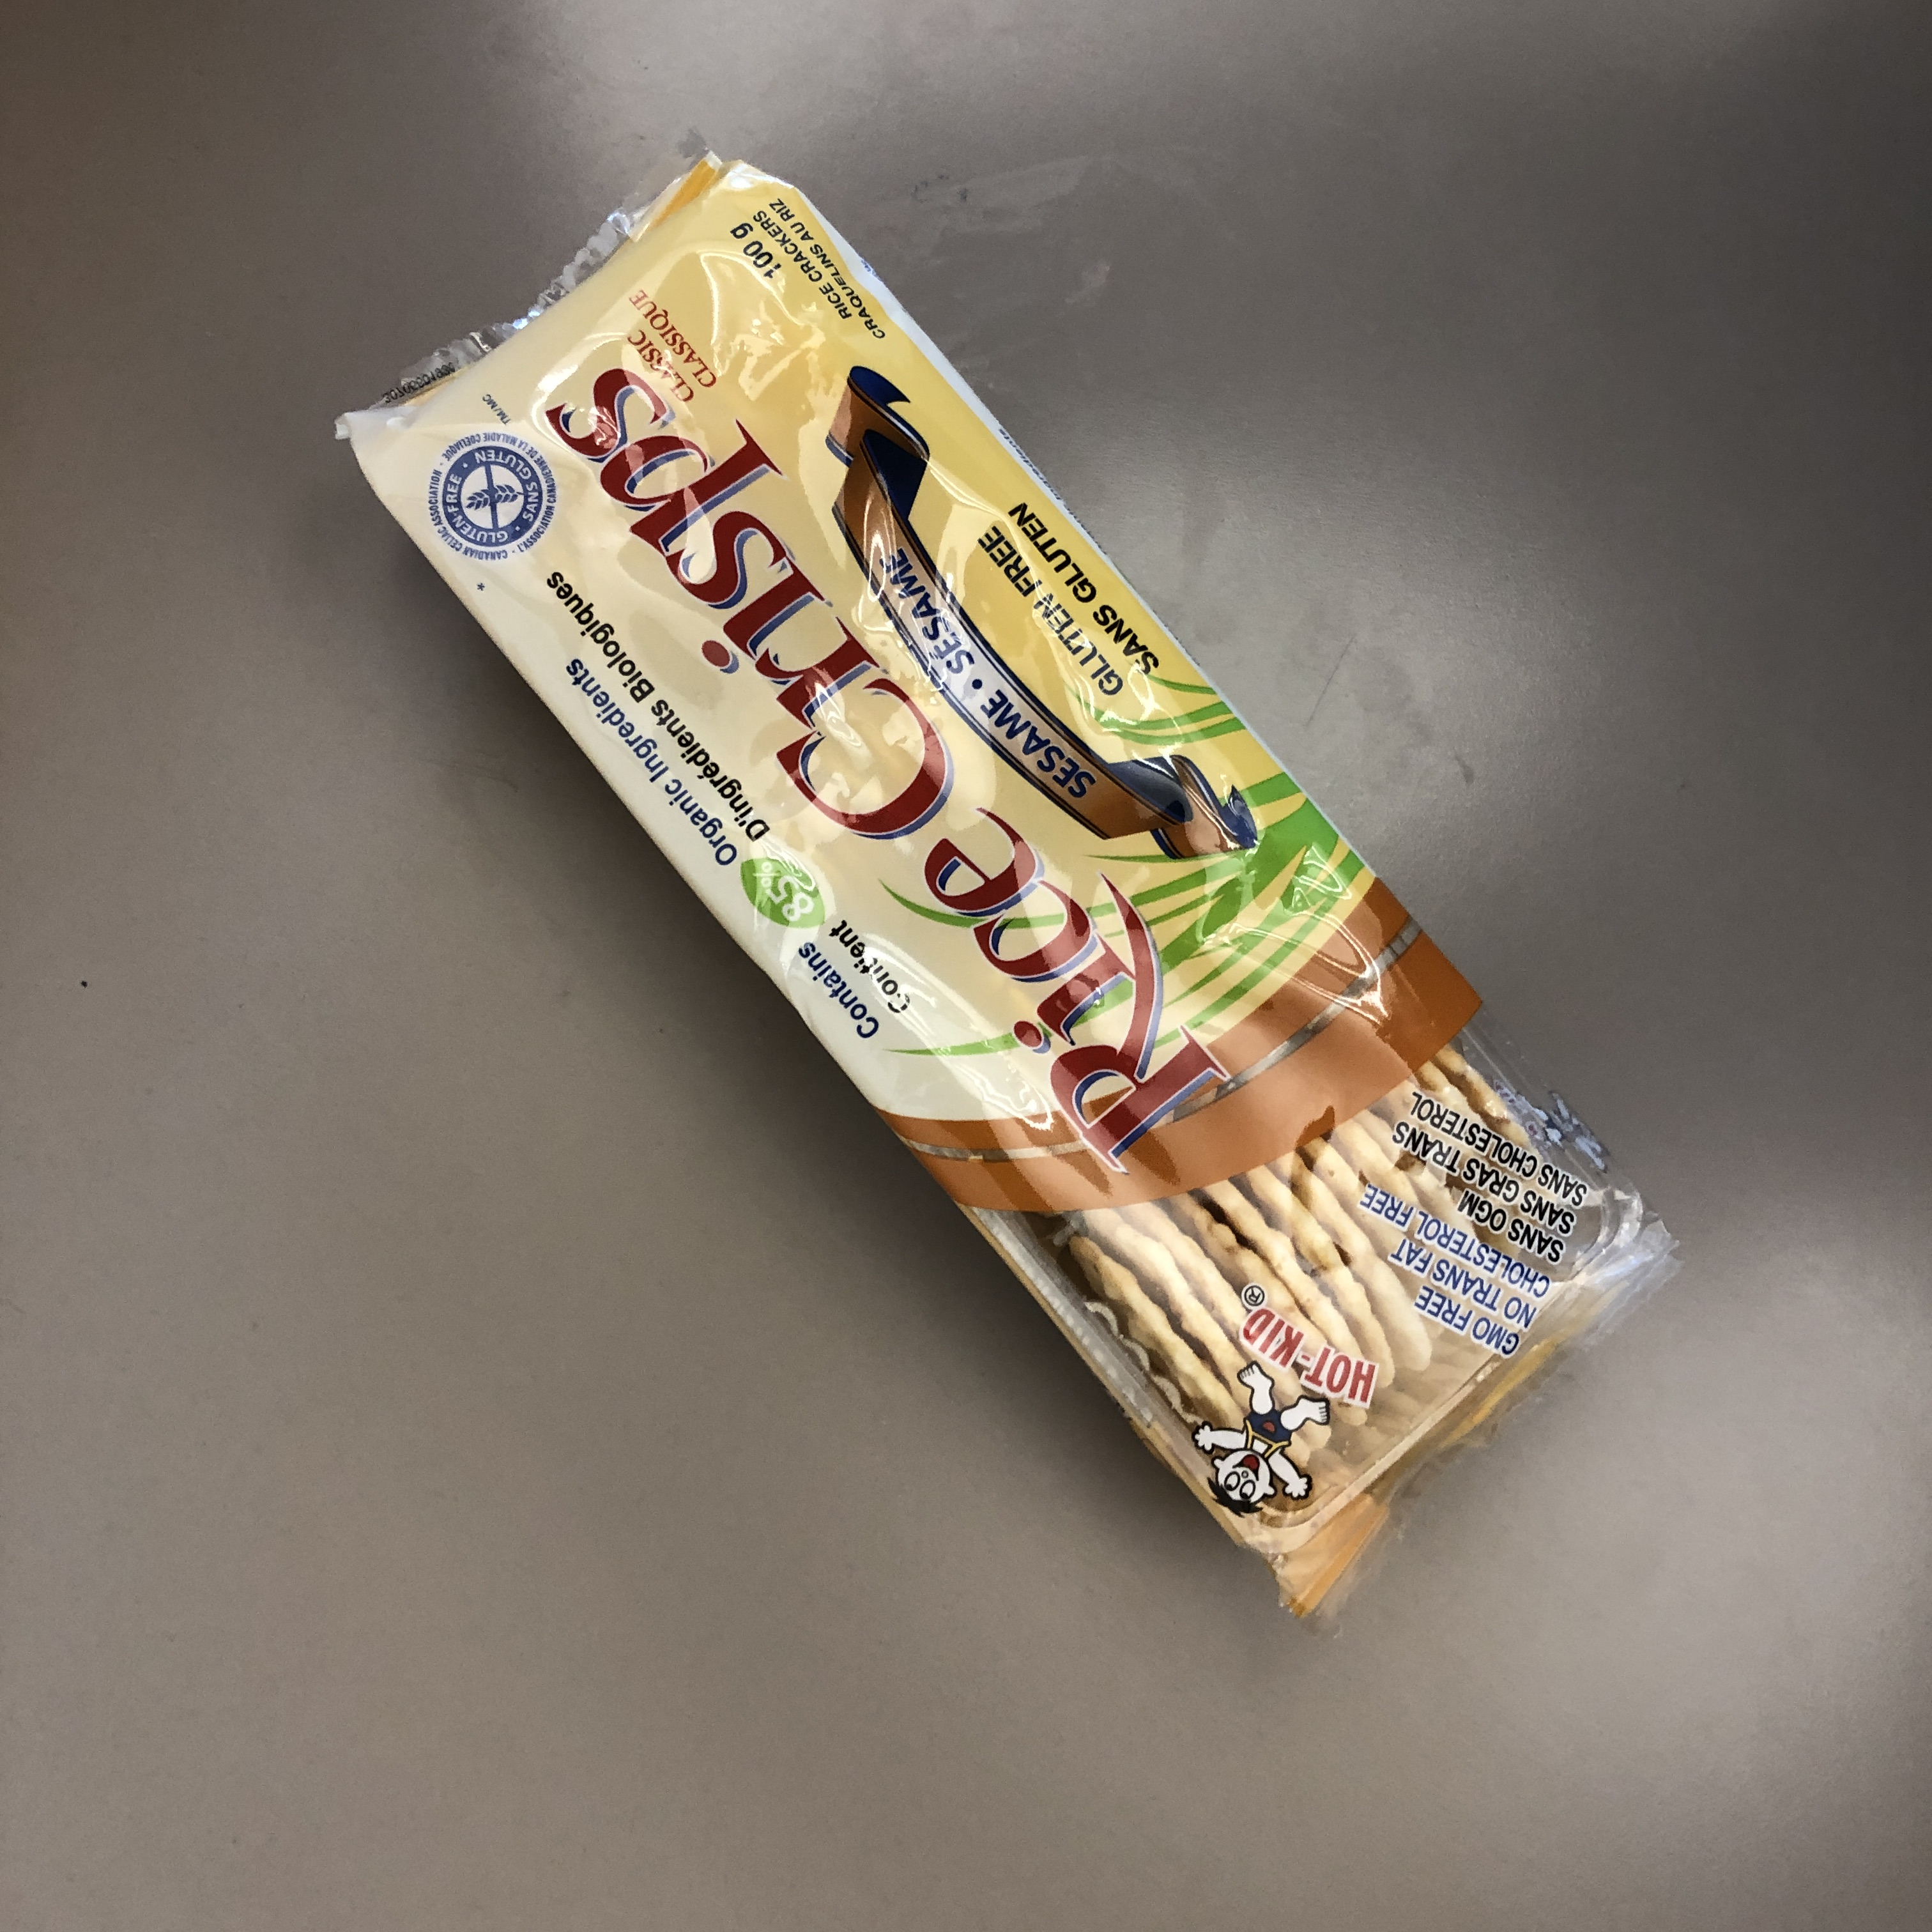hot_kid_rice_crisps_sesame: (180, 502, 1700, 1427)
